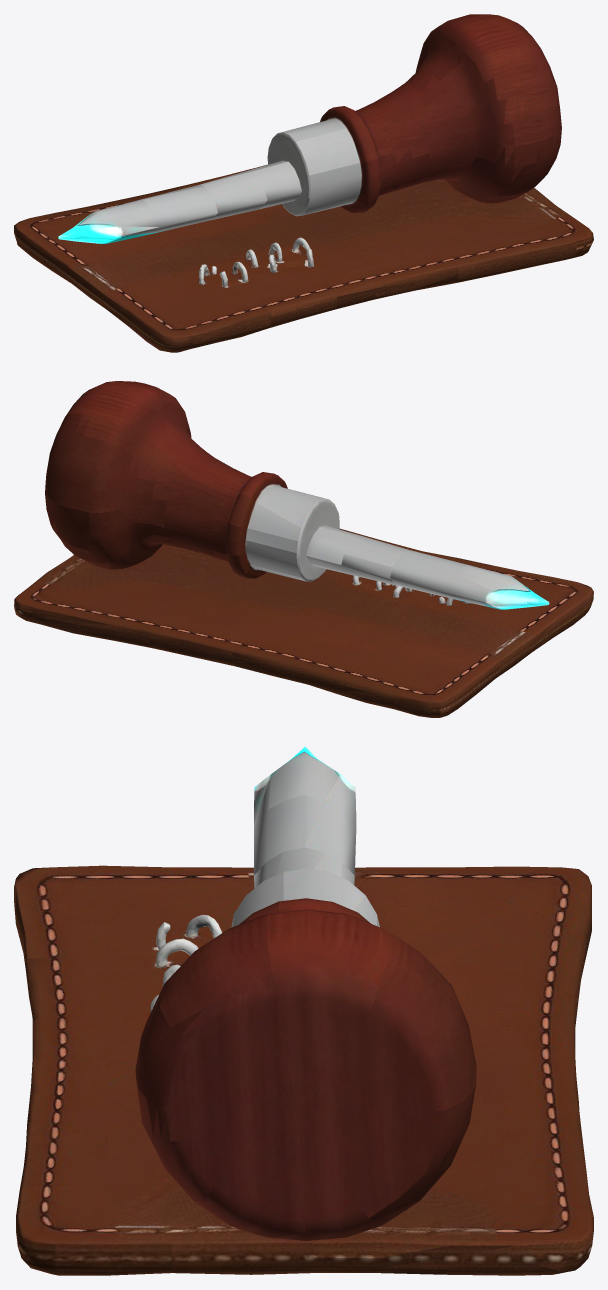
Rendered from burin.glb.
3 views of the same model, one above another, from view 1: azimuth 30°, elevation 25°; view 2: azimuth 150°, elevation 25°; view 3: azimuth 270°, elevation 25° (orthographic). The views are drawn at different scales.
Size of the model in its own units: 1 by 0.3828 by 0.6016.
Materials: 1 (1 with a texture image).
